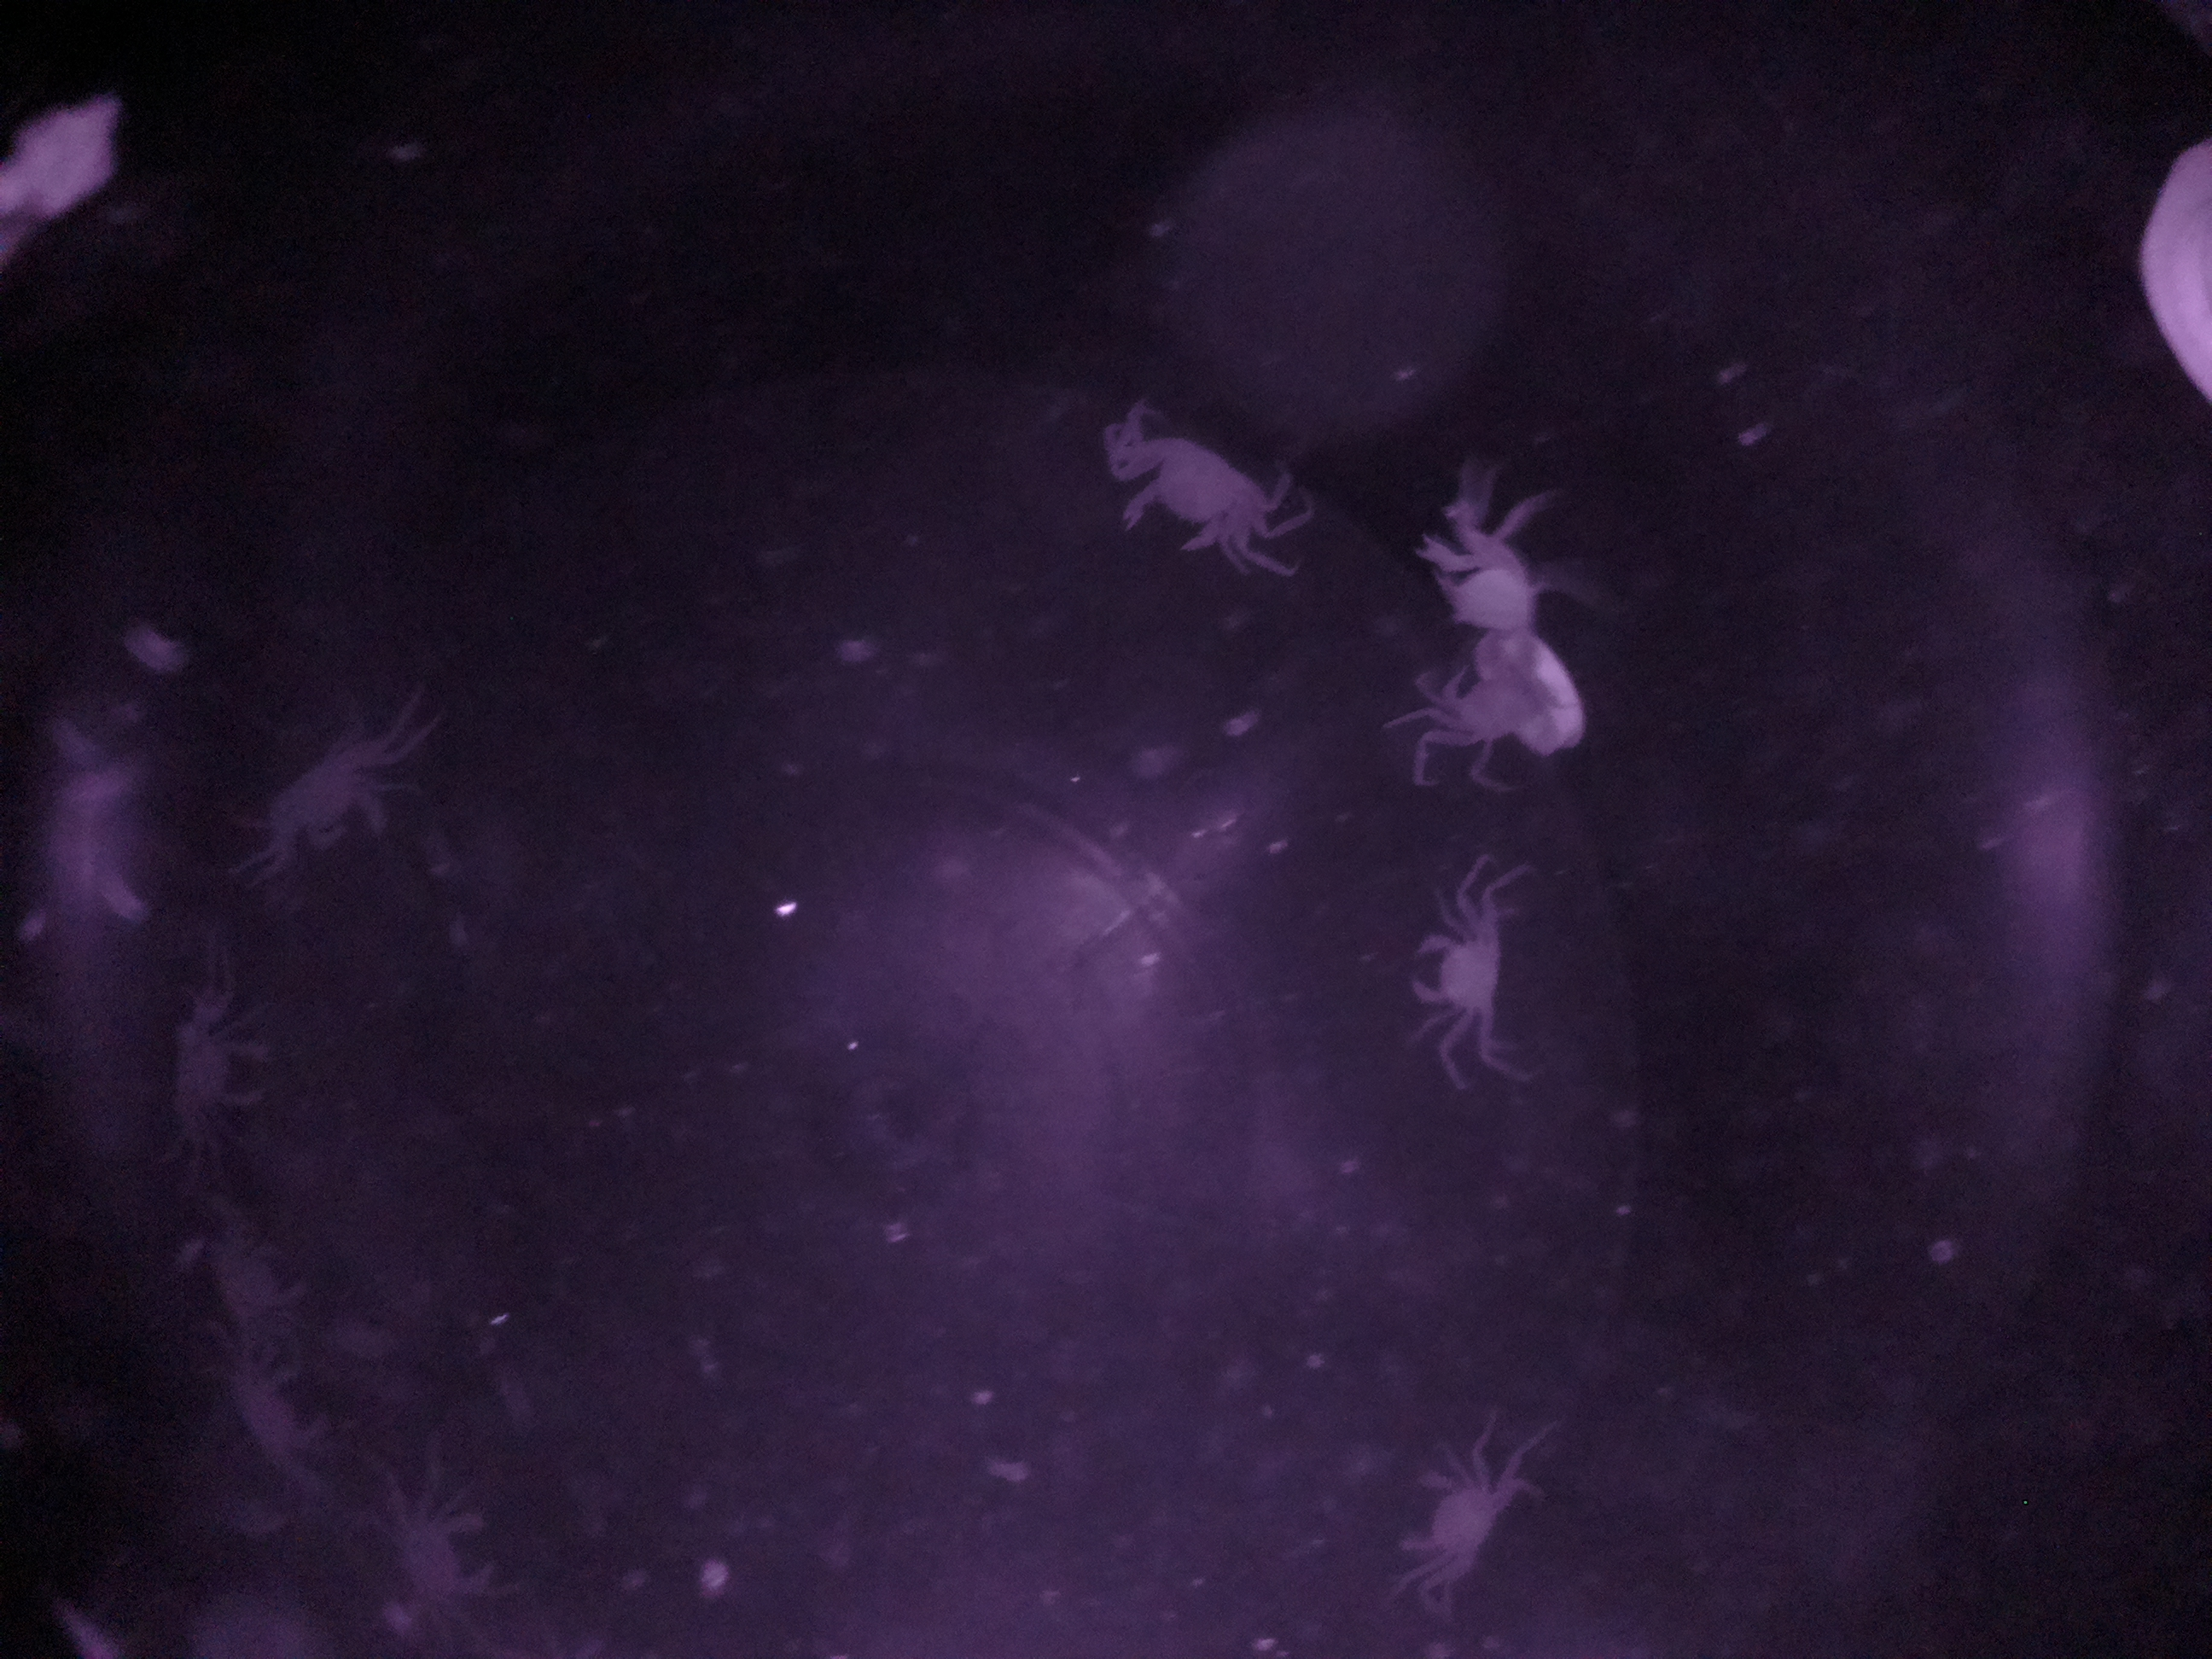Crab: (1085, 396, 1303, 582), (1372, 1410, 1548, 1612), (237, 697, 423, 884), (1393, 877, 1540, 1073)
